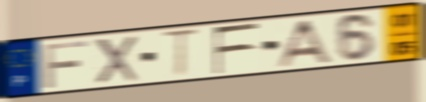6: (335, 12, 380, 63)
A: (273, 18, 335, 69)
F: (212, 21, 262, 77), (41, 39, 92, 90)
T: (159, 27, 203, 80)
X: (92, 34, 140, 86)
